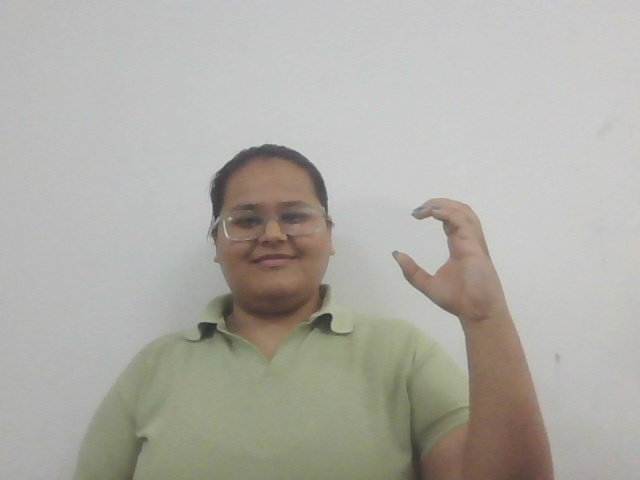C: (389, 195, 504, 321)
